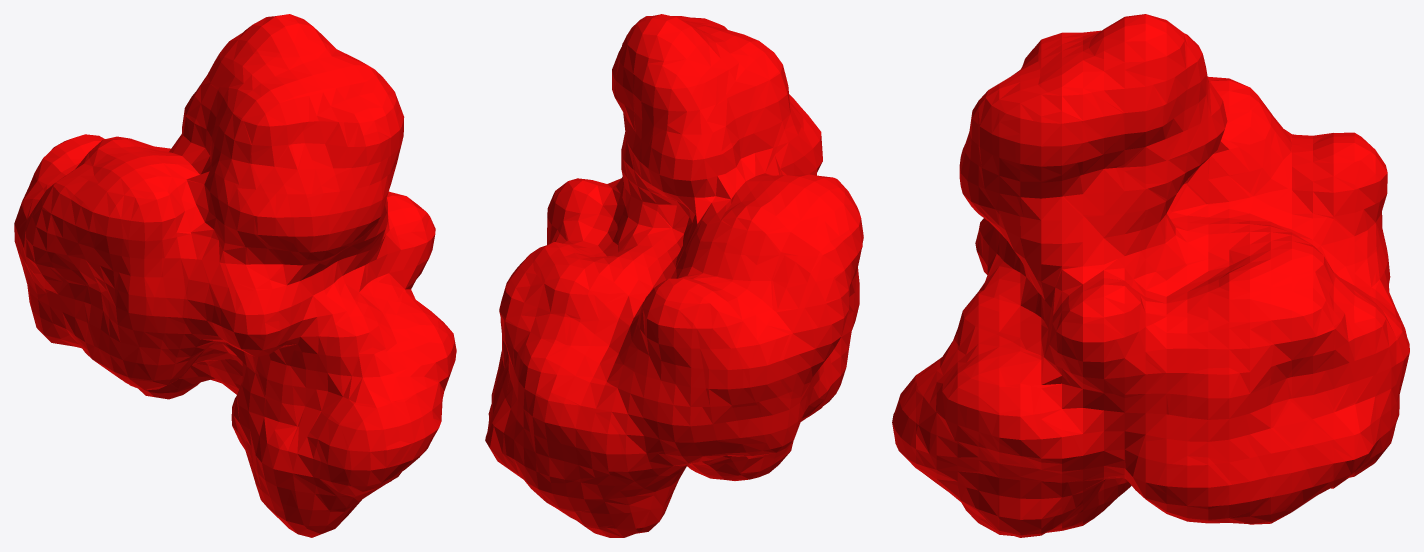
Rendered from crp_coarse.dae.
The picture shows the model from 3 angles, left to right: view 1: azimuth 30°, elevation 25°; view 2: azimuth 150°, elevation 25°; view 3: azimuth 270°, elevation 25°; orthographic projection. The views are drawn at different scales.
Parts seen in each view (by area): view 1: crp; view 2: crp; view 3: crp.
Part boxes in pixels (left/top/right/bottom): crp: left=14, top=14, right=456, bottom=537; crp: left=485, top=14, right=863, bottom=537; crp: left=892, top=14, right=1409, bottom=537.
Size of the model in its own units: 54.92 by 72.7 by 64.16.
